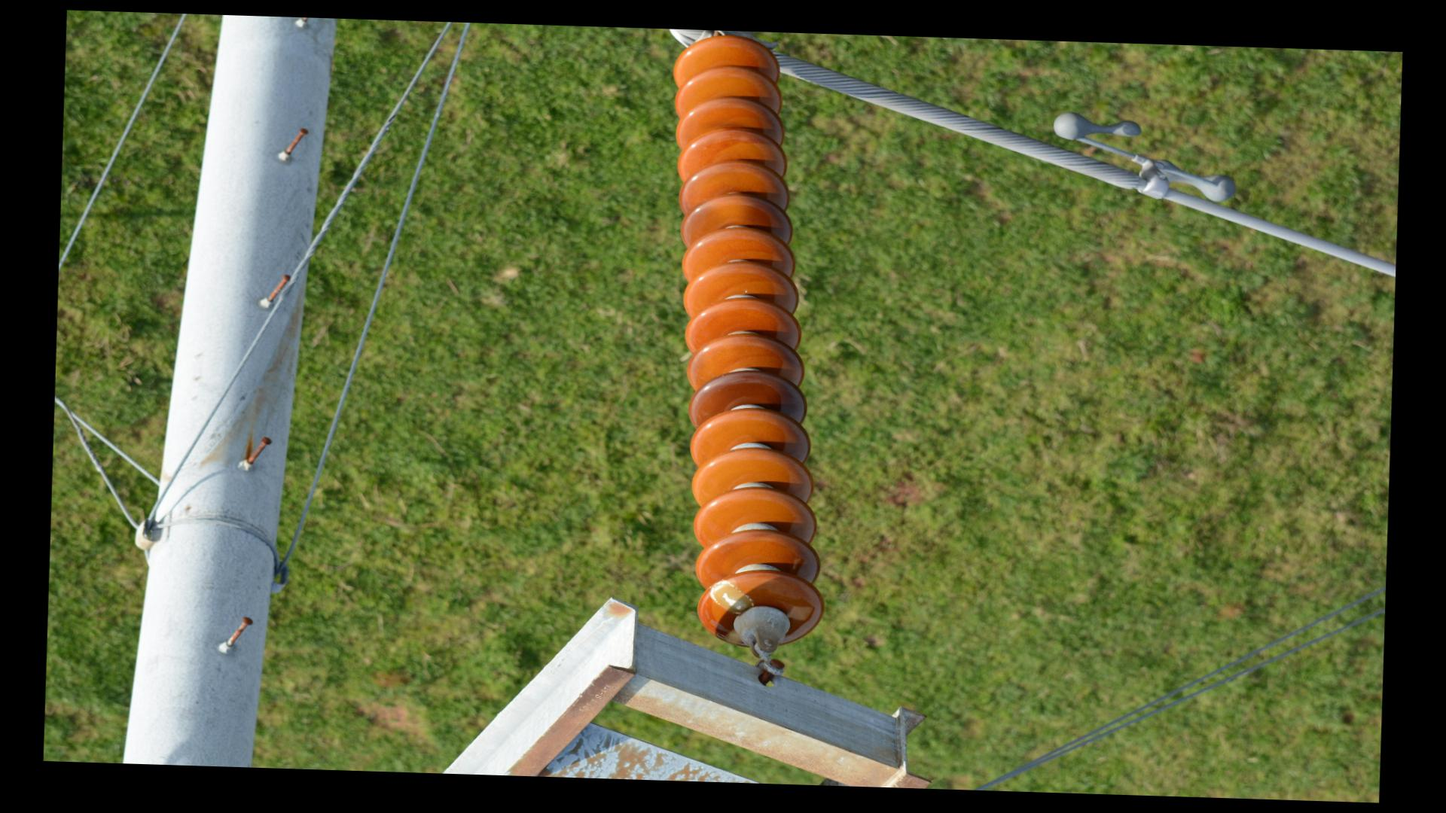damper: (1048, 108, 1242, 208)
